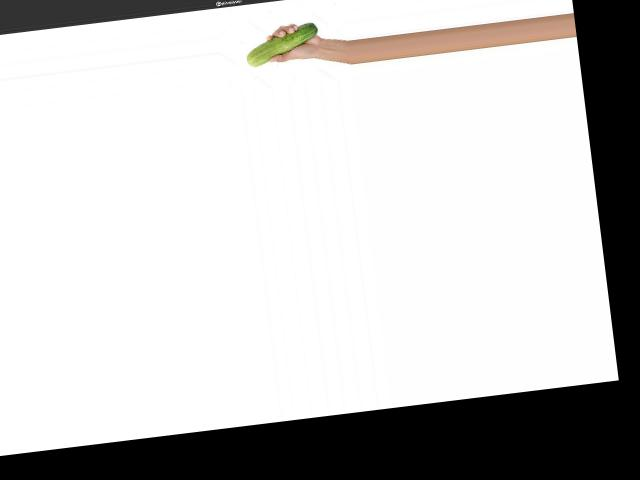cucumber: (244, 21, 321, 67)
